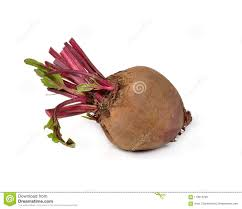beet: (25, 39, 192, 150)
